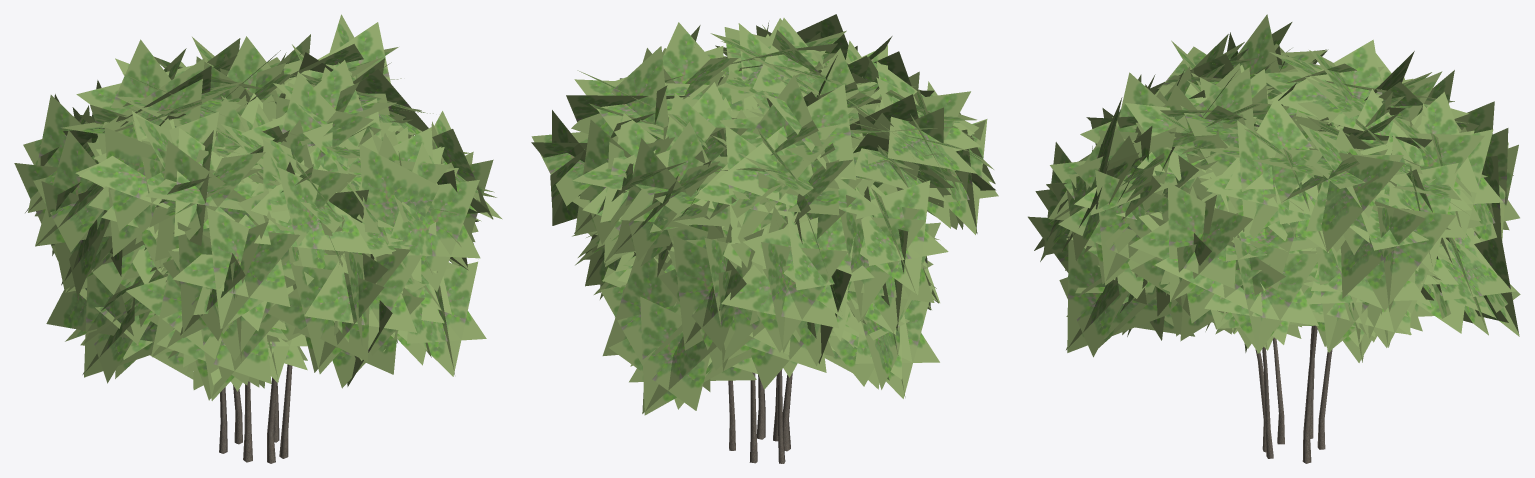
The model's file is Aralia_Elata_Spring_Young.glb.
3 renders of one model, left to right at view 1: azimuth 30°, elevation 25°; view 2: azimuth 150°, elevation 25°; view 3: azimuth 270°, elevation 25°, orthographic. The views are drawn at different scales.
Parts seen in each view (by area): view 1: Aralia_Elata_Spring_Young__LOD3; view 2: Aralia_Elata_Spring_Young__LOD3; view 3: Aralia_Elata_Spring_Young__LOD3.
Part boxes in pixels (x1=…): Aralia_Elata_Spring_Young__LOD3: x1=14, y1=14, x2=502, y2=463; Aralia_Elata_Spring_Young__LOD3: x1=531, y1=14, x2=998, y2=463; Aralia_Elata_Spring_Young__LOD3: x1=1028, y1=14, x2=1520, y2=463.
Bounding box in the file's own units: 3.22 × 3.09 × 3.55.
2 materials, 2 textured.
